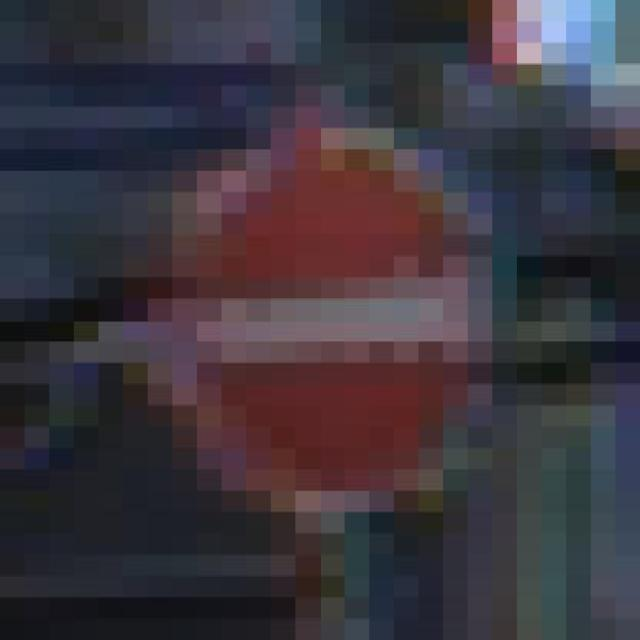No Entry: (123, 128, 566, 534)
